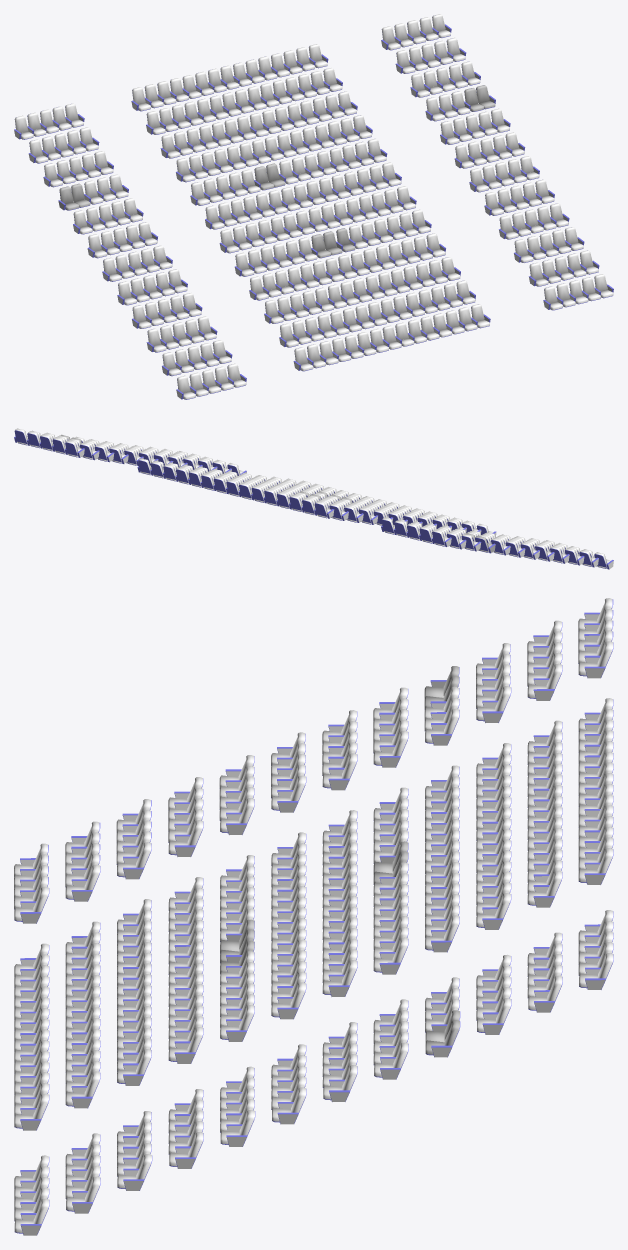
File: CHAIRS.fbx
3 views of the same model, one above another, from view 1: azimuth 30°, elevation 25°; view 2: azimuth 150°, elevation 25°; view 3: azimuth 270°, elevation 25° (orthographic). The views are drawn at different scales.
Size of the model in its own units: 2349 by 821 by 1623.
